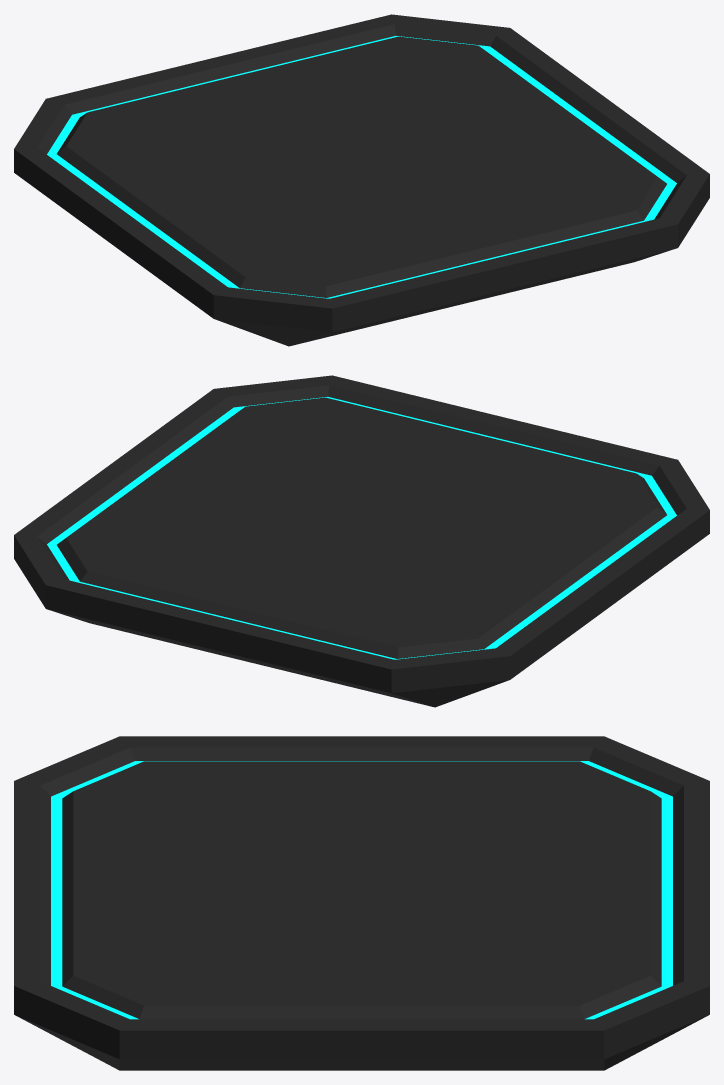
File: round_floor1.fbx
3 renders of one model, top to bottom at view 1: azimuth 30°, elevation 25°; view 2: azimuth 150°, elevation 25°; view 3: azimuth 270°, elevation 25°, orthographic. The views are drawn at different scales.
Visible parts, largest first — view 1: singlePlatformFloor; view 2: singlePlatformFloor; view 3: singlePlatformFloor.
Boxes of the visible parts, x1,y1,x2,y2 form: singlePlatformFloor: [14, 14, 709, 346]; singlePlatformFloor: [14, 375, 709, 707]; singlePlatformFloor: [14, 736, 709, 1070].
Bounding box in the file's own units: 801 × 108 × 801.
